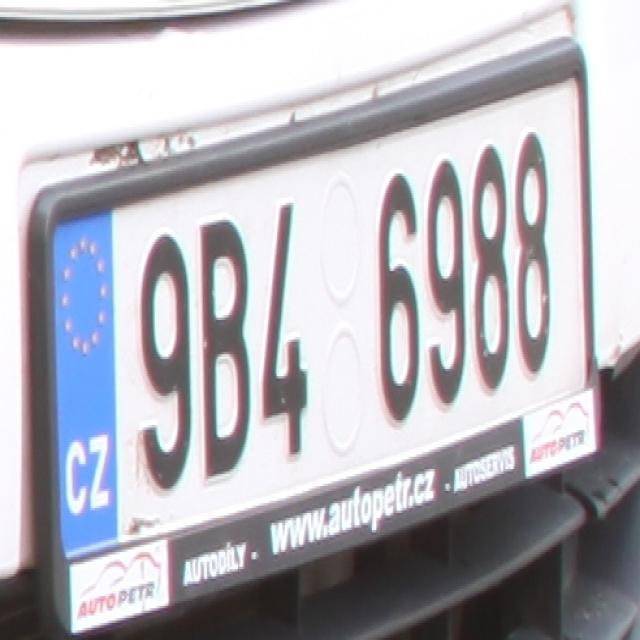4: (258, 202, 308, 460)
6: (374, 168, 420, 438)
8: (468, 144, 512, 389), (514, 127, 554, 381)
9: (136, 234, 192, 488), (428, 156, 466, 413)
B: (196, 218, 252, 482)
